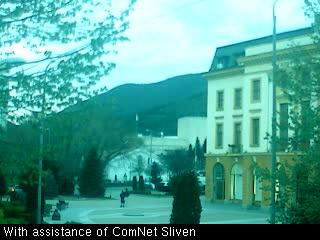person: (118, 189, 126, 210), (123, 188, 129, 208)
